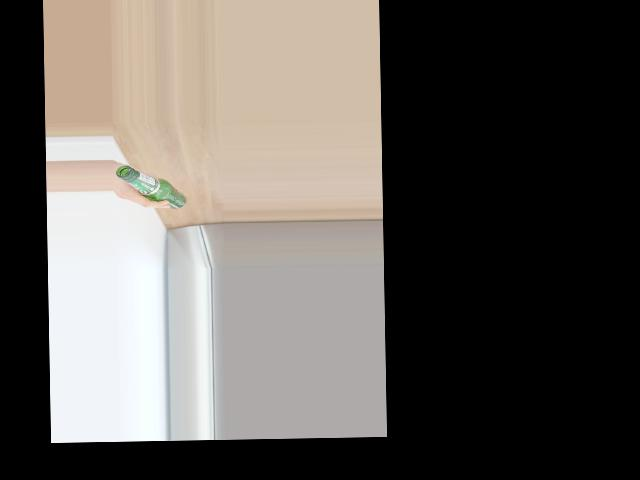beer: (115, 164, 186, 209)
